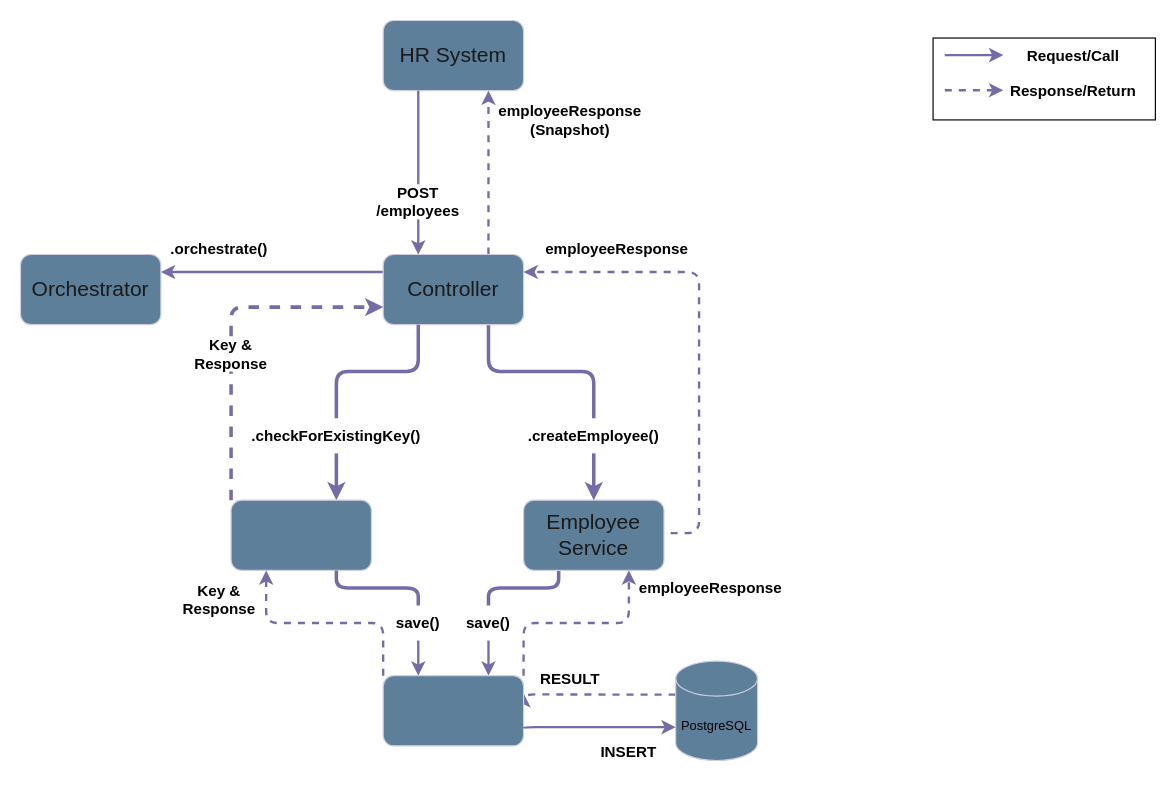
Some shapes in this 1176 by 798 pixel diagram are drawn without their labels. Each missing label, with the centre of its shape:
"Idempotency Record" belongs at [300,534].
"Repository Layer" belongs at [453,710].
